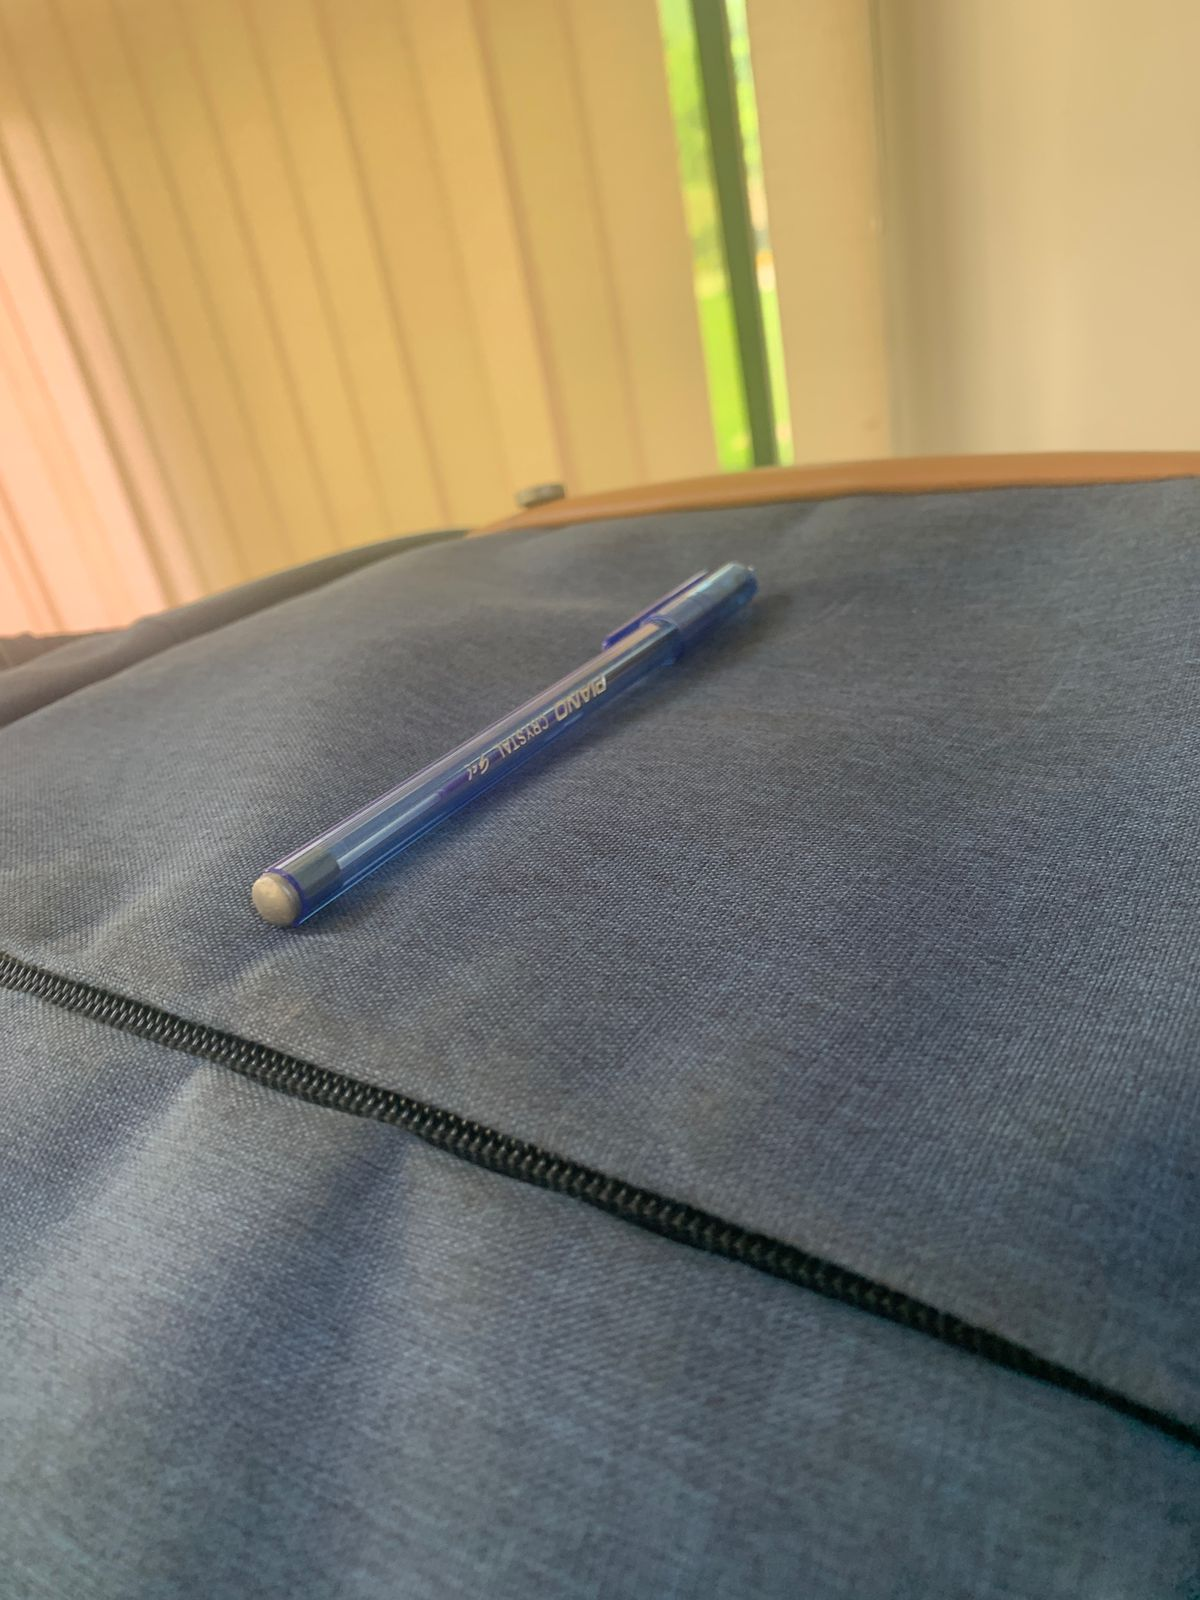pen: (190, 490, 834, 1067)
